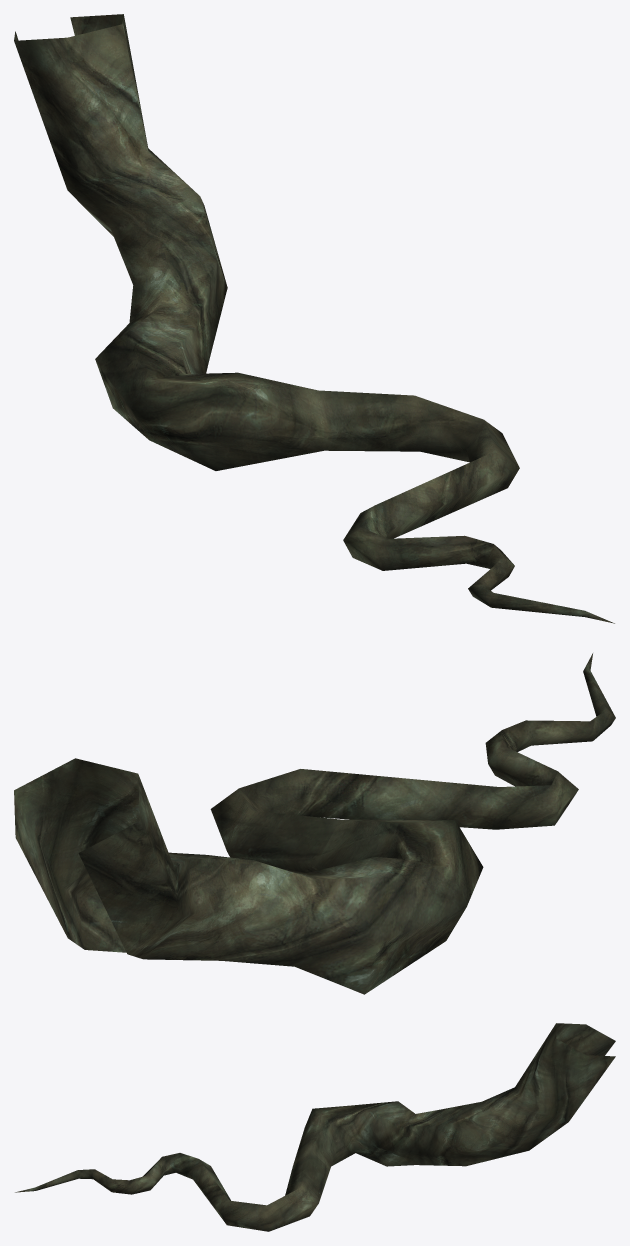
The model's file is Roots_el5.fbx.
3 views of the same model, one above another, from view 1: azimuth 30°, elevation 25°; view 2: azimuth 150°, elevation 25°; view 3: azimuth 270°, elevation 25° (orthographic). The views are drawn at different scales.
Visible parts, largest first — view 1: polySurface3108; view 2: polySurface3108; view 3: polySurface3108.
Part boxes in pixels (x1,y1,x2,y2): polySurface3108: (14, 14, 614, 623); polySurface3108: (14, 653, 615, 994); polySurface3108: (15, 1023, 615, 1231).
Bounding box in the file's own units: 2.12 × 1.91 × 6.52.
